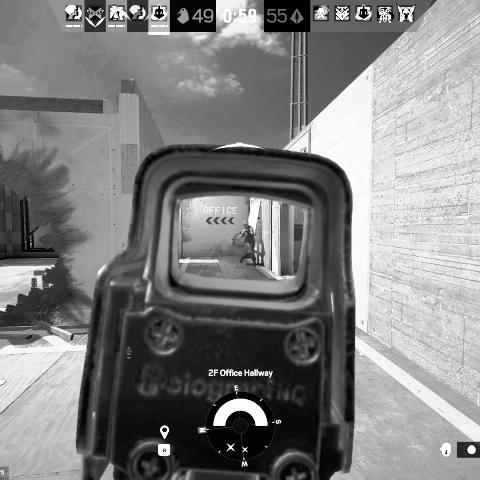Character: (238, 220, 257, 267)
Head: (242, 220, 250, 228)
